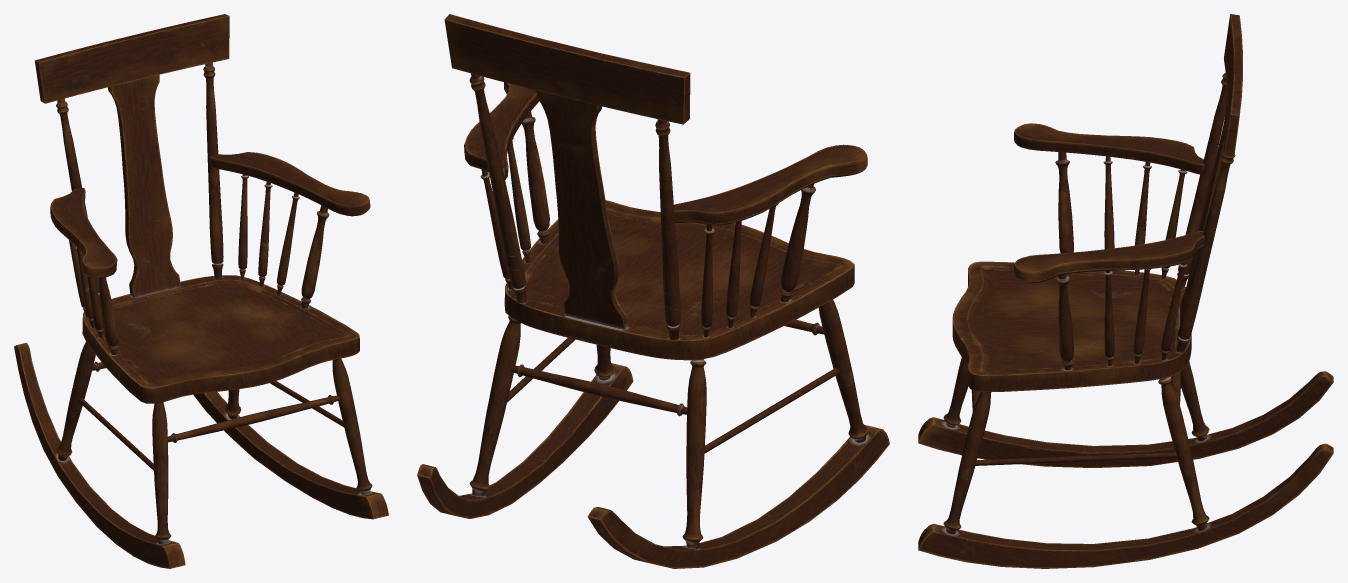
Rendered from Rockingchair_01.glb.
The picture shows the model from 3 angles, left to right: view 1: azimuth 30°, elevation 25°; view 2: azimuth 150°, elevation 25°; view 3: azimuth 270°, elevation 25°; orthographic projection. The views are drawn at different scales.
Visible parts, largest first — view 1: Rockingchair_01; view 2: Rockingchair_01; view 3: Rockingchair_01.
Boxes of the visible parts, x1,y1,x2,y2 form: Rockingchair_01: [14, 14, 388, 568]; Rockingchair_01: [417, 14, 889, 568]; Rockingchair_01: [918, 14, 1333, 568].
Size of the model in its own units: 0.7081 by 0.9949 by 0.8335.
1 material, 1 textured.
